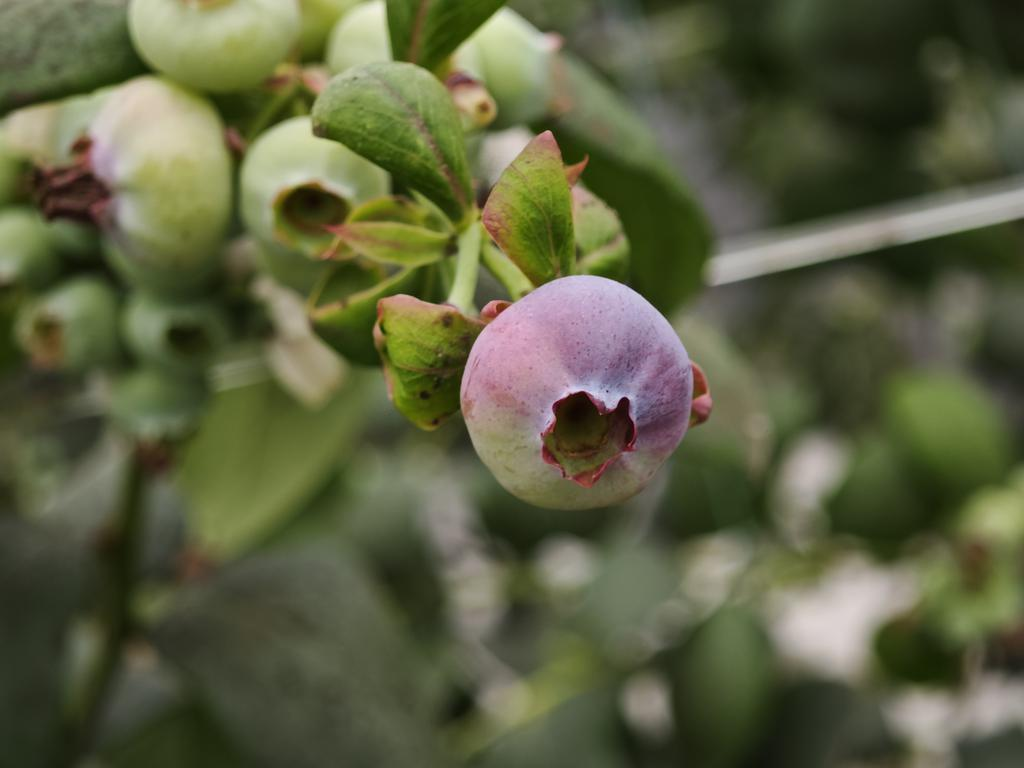Semi-RipeBlueBerry: (459, 269, 699, 516)
